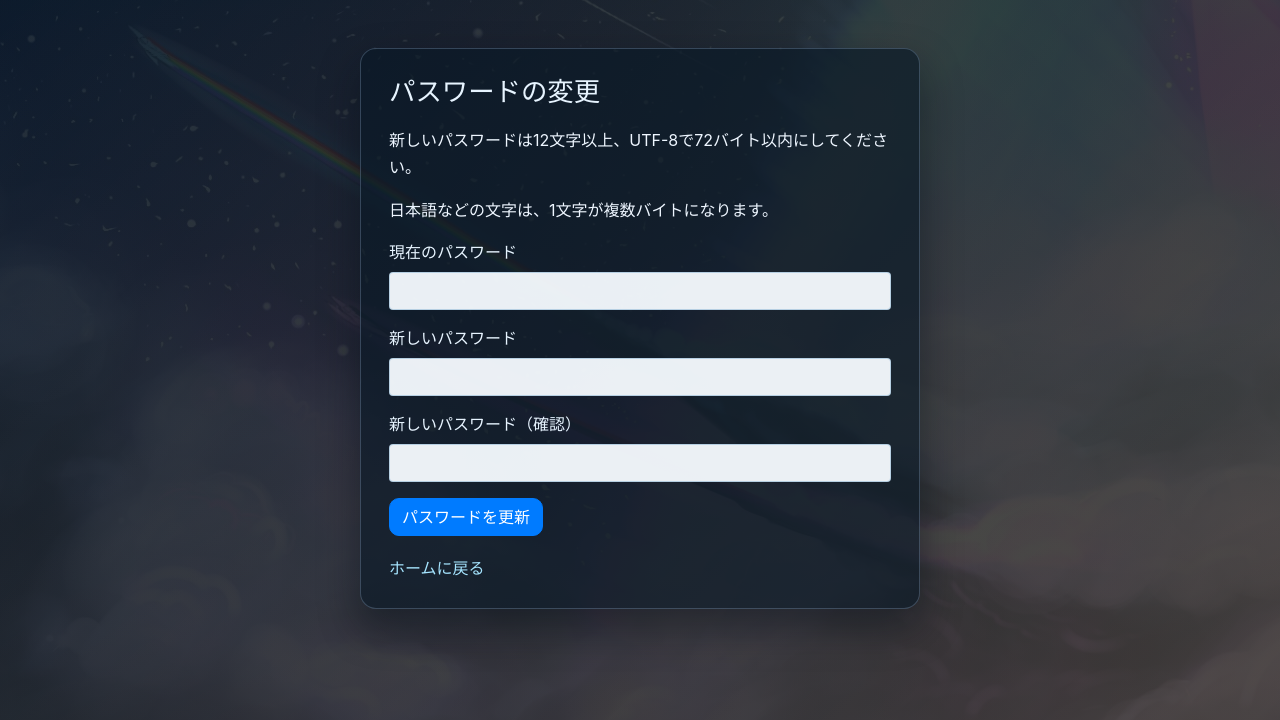
仅提交当前账户的改密字段，成功后清空密码并显示提示
Type "old-password-123" into the password field labelled "現在のパスワード".
click(640, 291); type("old-password-123")  # box top-left (389, 272), bottom-right (891, 310)
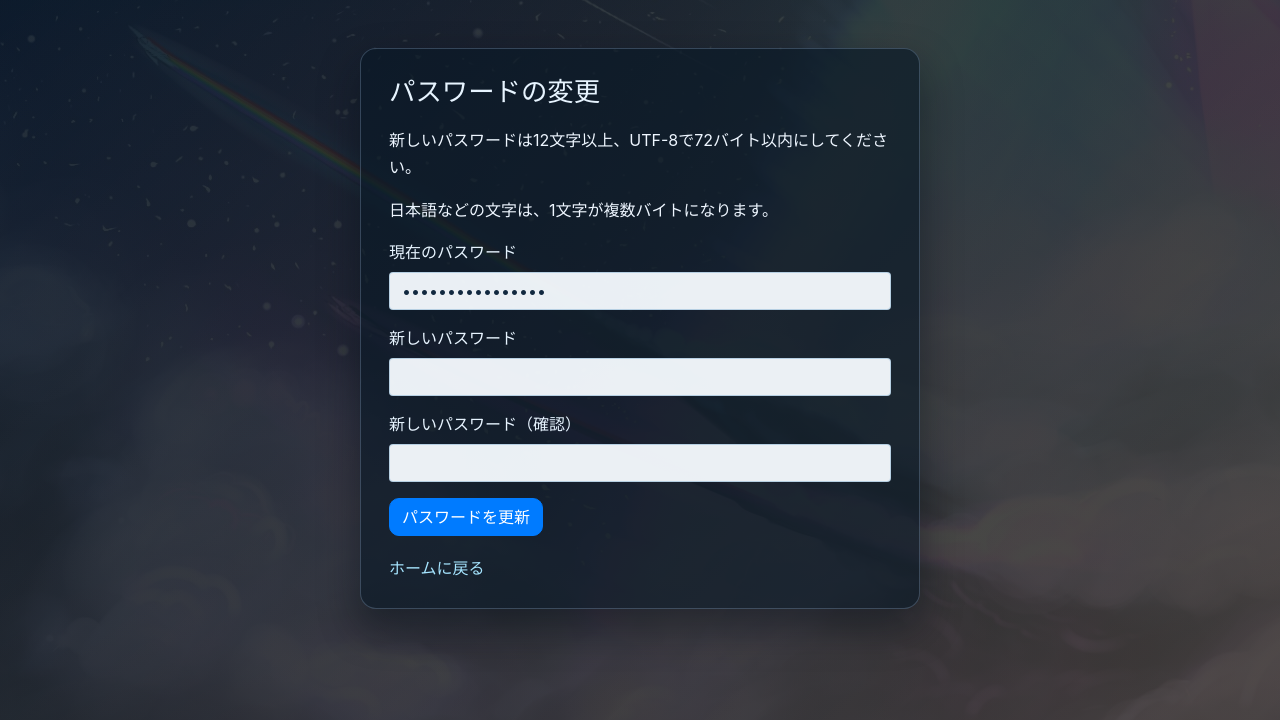
Type "new-password-456" into the password field labelled "新しいパスワード".
click(640, 377); type("new-password-456")  # box top-left (389, 358), bottom-right (891, 396)
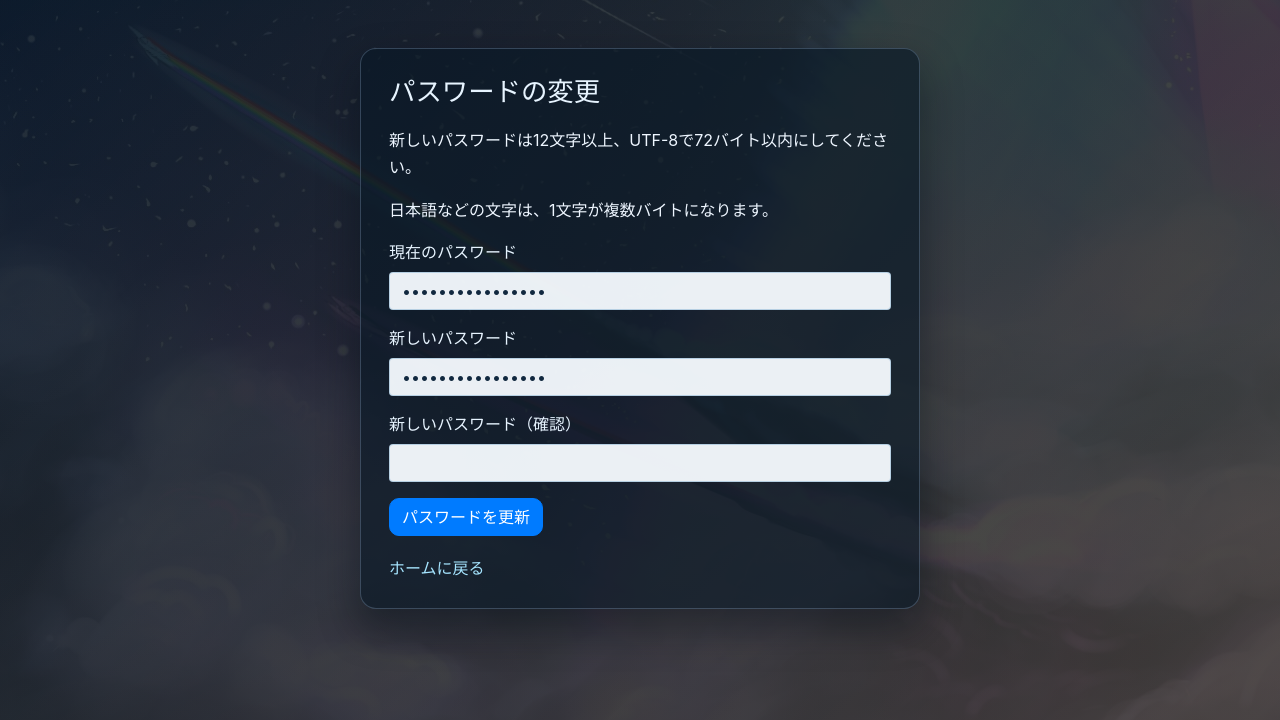
Type "new-password-456" into the password field labelled "新しいパスワード（確認）".
click(640, 463); type("new-password-456")  # box top-left (389, 444), bottom-right (891, 482)
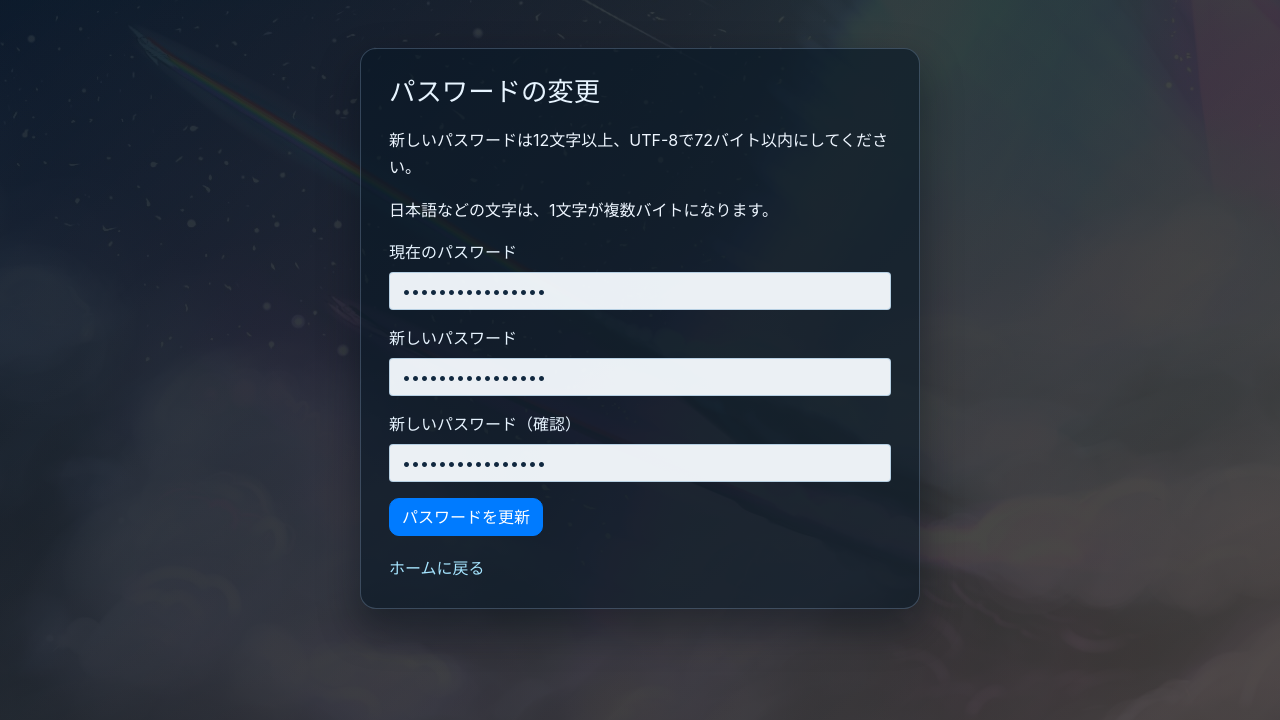
Submit the form "現在のパスワード 新しいパスワード 新しいパスワード（確認） パスワードを更新", box top-left (389, 240), bottom-right (891, 536)
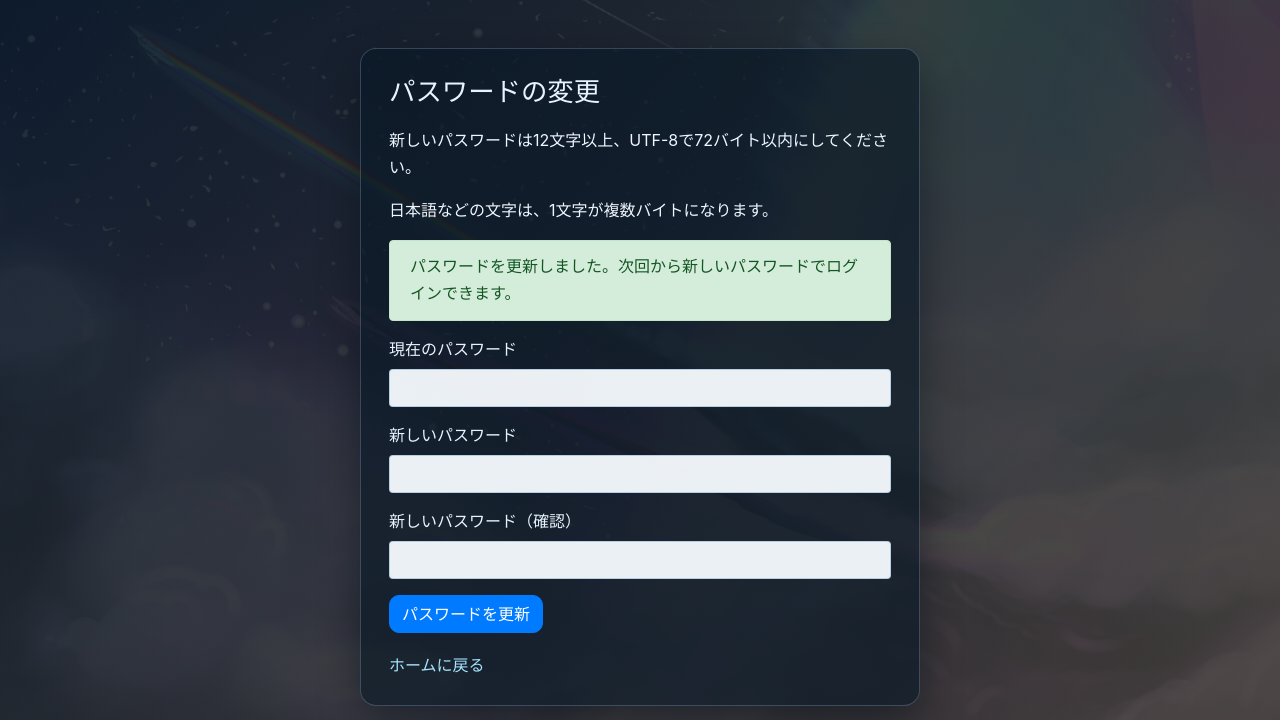
Expected: the message "パスワードを更新しました。次回から新しいパスワードでログインできます。" is shown, top-left (389, 240), bottom-right (891, 321)
Expected: the password field labelled "現在のパスワード" is empty, top-left (389, 369), bottom-right (891, 407)
Expected: the password field labelled "新しいパスワード" is empty, top-left (389, 455), bottom-right (891, 493)
